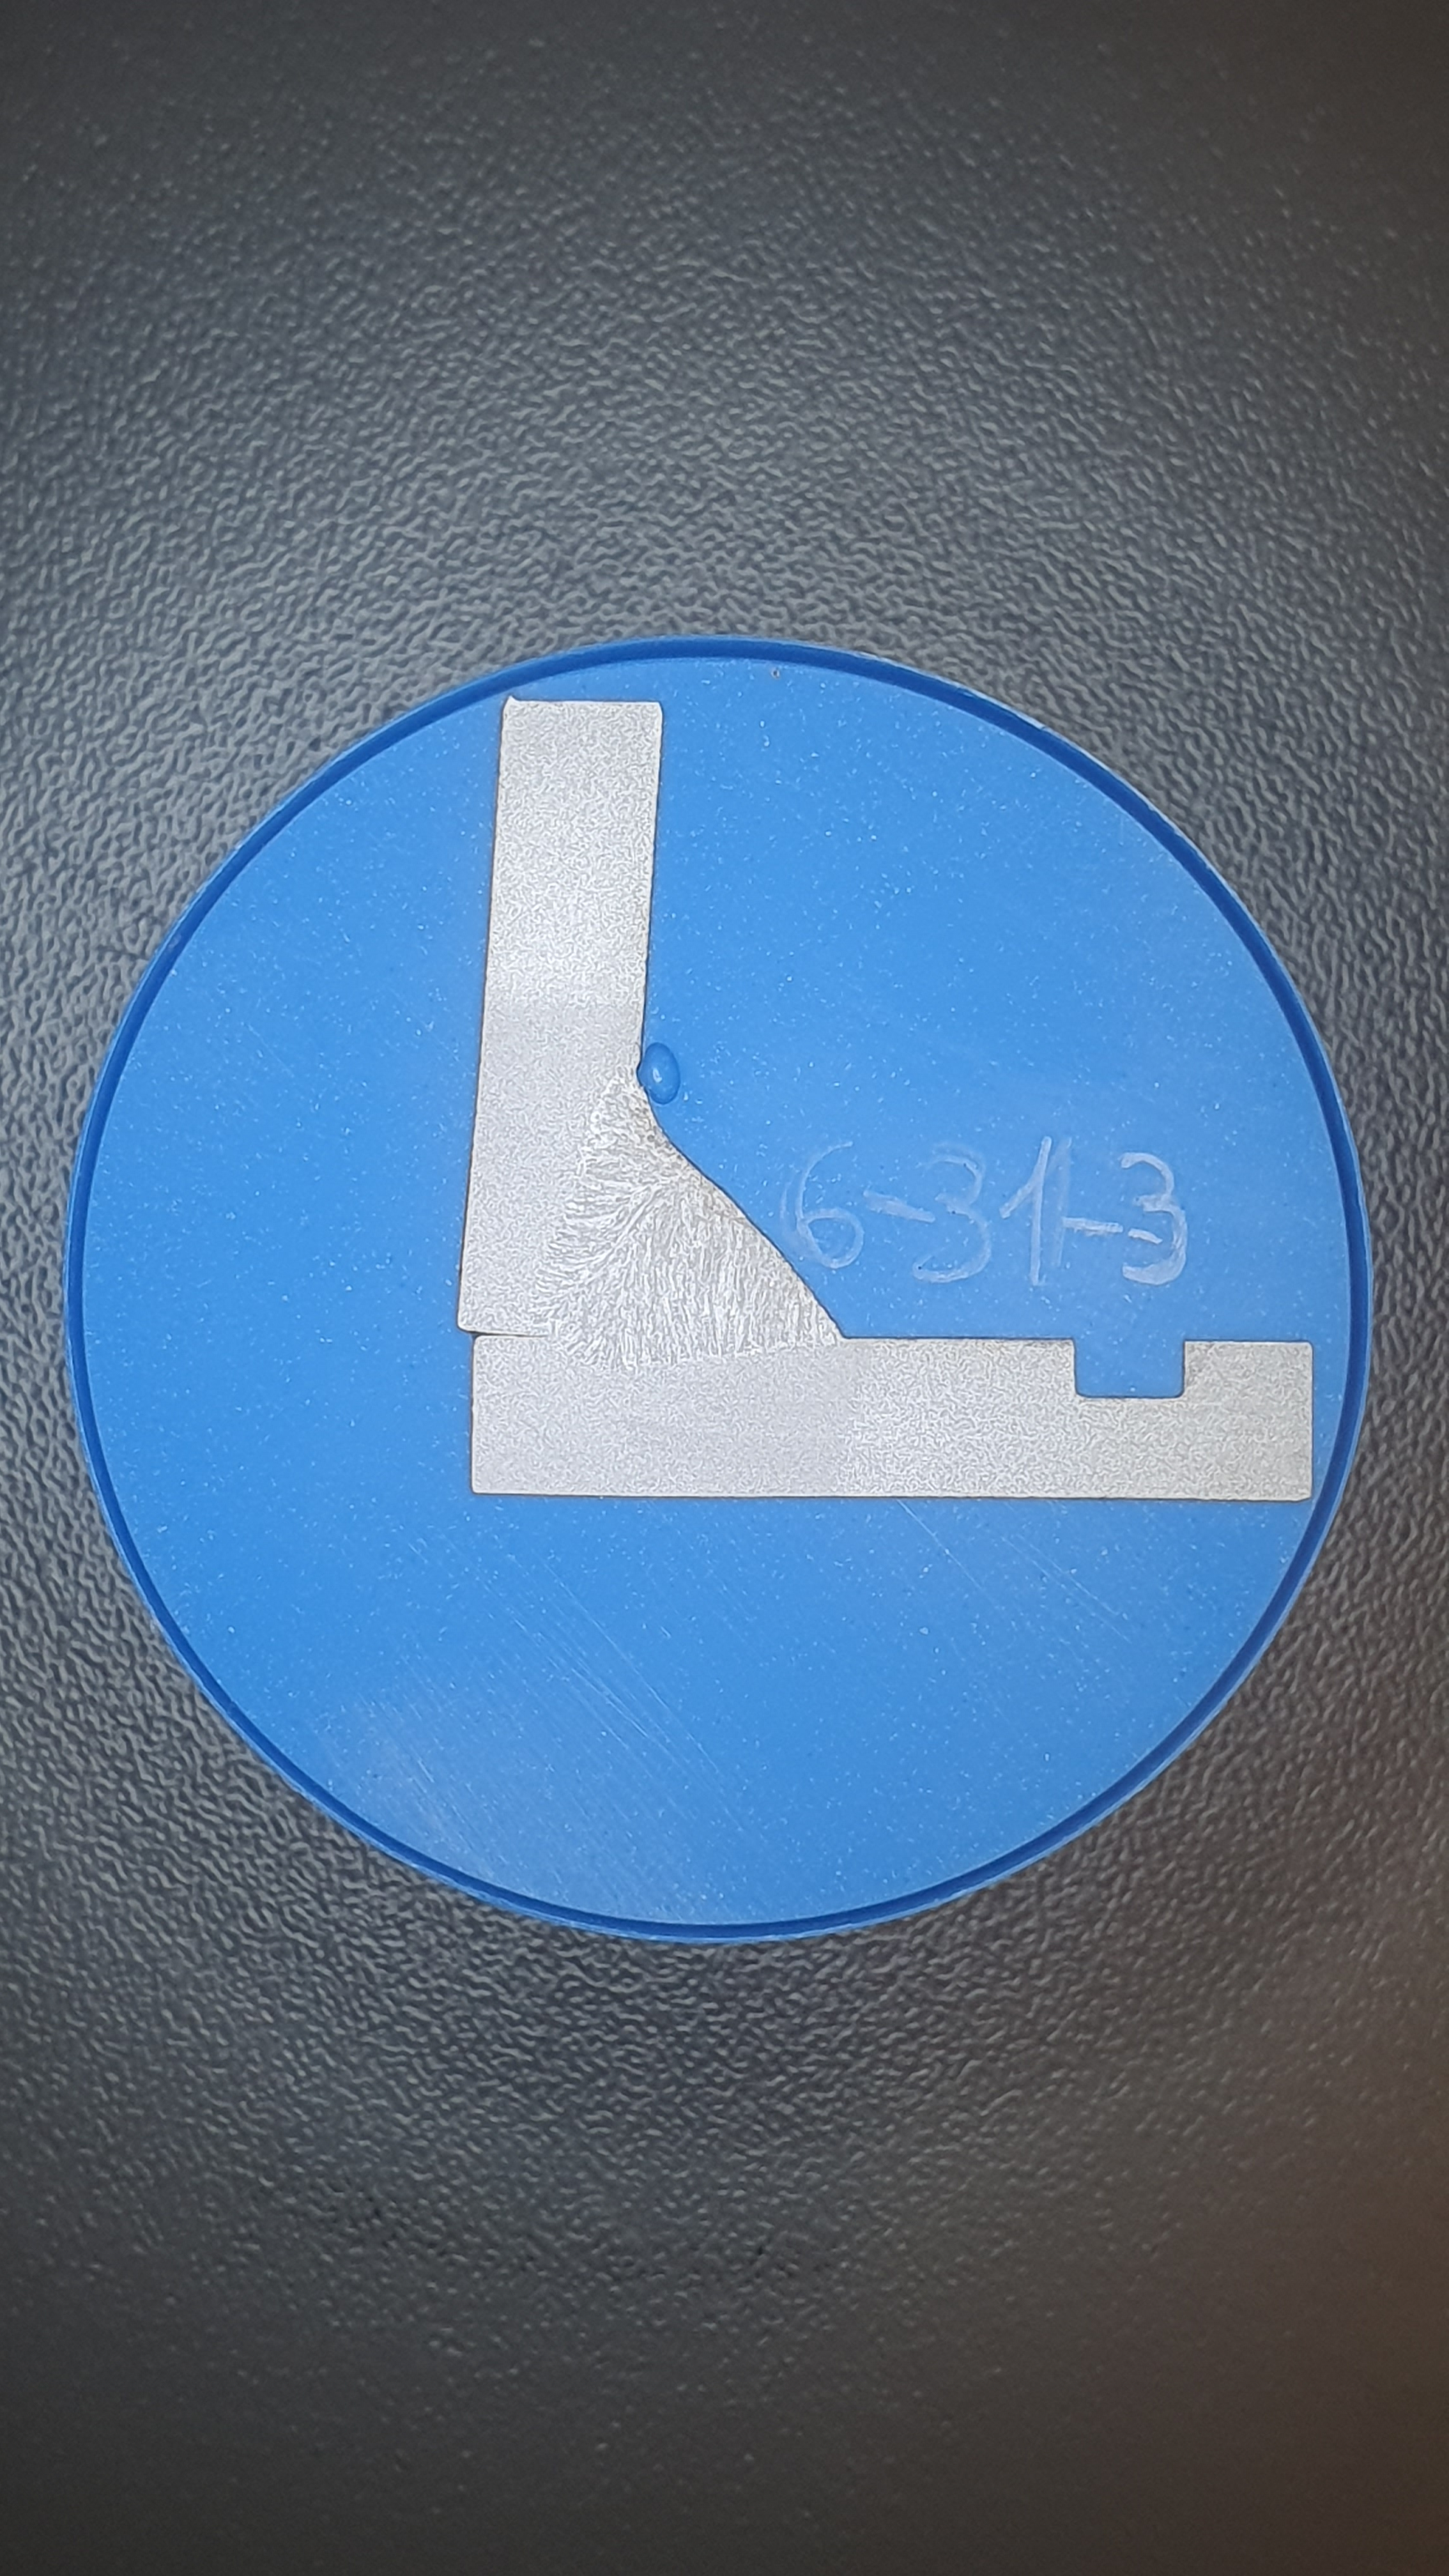Fusion: (526, 1045, 843, 1372)
Hintergrund: (80, 657, 1346, 1926)
Metall: (456, 694, 1314, 1501)
Nebenbereich: (478, 1000, 877, 1482)
